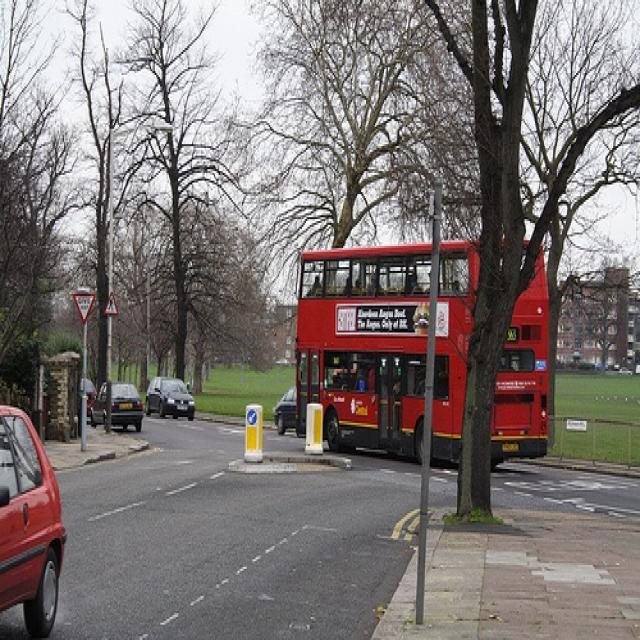bus: (296, 244, 550, 463)
car: (0, 404, 68, 638), (144, 375, 194, 421), (91, 380, 143, 423), (271, 386, 297, 436), (79, 379, 95, 413)
pole: (411, 173, 443, 623)
